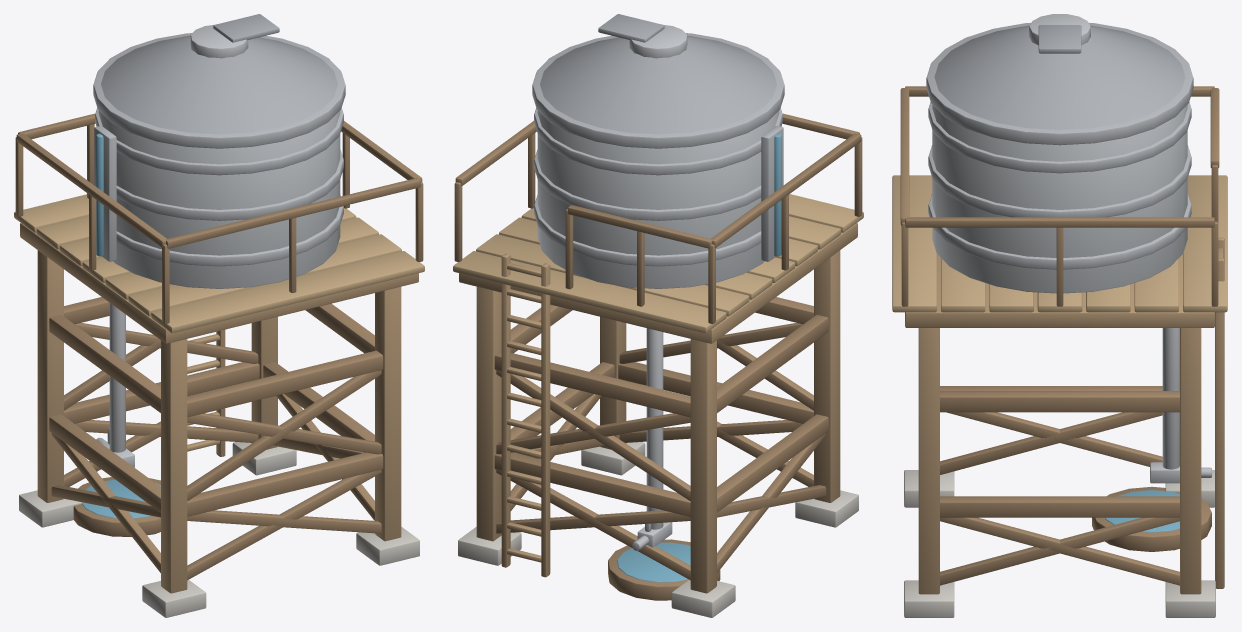
The model's file is th18_wassertank.glb.
3 renders of one model, left to right at view 1: azimuth 30°, elevation 25°; view 2: azimuth 150°, elevation 25°; view 3: azimuth 270°, elevation 25°, orthographic. The views are drawn at different scales.
Visible parts, largest first — view 1: Cylinder, Cone, Cube.001, Cube.029, Cube.005, Cube.003, Cylinder.004, Cube.028, Cube.012, Cube.008, Cube.030, Cube.018 (+46 smaller); view 2: Cylinder, Cone, Cube.003, Cube.007, Cube.035, Cube.001, Cylinder.004, Cube.028, Cube.009, Cube.013, Cube.041, Cube.034 (+49 smaller); view 3: Cylinder, Cone, Cube.005, Cube.007, Cube.028, Cylinder.004, Cube.011, Cube.015, Cube.029, Cube.035, Cylinder.003, Cube.063 (+28 smaller).
Boxes of the visible parts, x1,y1,x2,y2 form: Cylinder: (98, 110, 340, 288); Cone: (101, 35, 337, 134); Cube.001: (161, 339, 187, 593); Cube.029: (151, 251, 424, 333); Cube.005: (375, 286, 401, 541); Cube.003: (37, 250, 63, 502); Cylinder.004: (93, 33, 345, 148); Cube.028: (20, 223, 418, 343); Cube.012: (187, 350, 383, 417); Cube.008: (187, 452, 383, 516); Cube.030: (128, 234, 401, 316); Cube.018: (187, 370, 381, 500); Cylinder: (537, 110, 779, 288); Cone: (540, 35, 776, 134); Cube.003: (690, 339, 716, 593); Cube.007: (476, 286, 501, 541); Cube.035: (453, 251, 726, 333); Cube.001: (814, 250, 840, 502); Cylinder.004: (532, 33, 784, 148); Cube.028: (459, 223, 857, 343); Cube.009: (494, 452, 690, 516); Cube.013: (494, 350, 690, 417); Cube.041: (541, 263, 550, 577); Cube.034: (476, 234, 749, 316); Cylinder: (932, 105, 1187, 293); Cone: (934, 25, 1185, 129); Cube.005: (918, 328, 939, 594); Cube.007: (1180, 328, 1201, 594); Cube.028: (905, 254, 1214, 327); Cylinder.004: (926, 22, 1193, 145); Cube.011: (940, 496, 1179, 517); Cube.015: (940, 391, 1179, 412); Cube.029: (892, 175, 936, 312); Cube.035: (1183, 175, 1227, 312); Cylinder.003: (928, 102, 1191, 173); Cube.063: (905, 217, 1214, 227).
Bounding box in the file's own units: 3.29 × 6.04 × 3.46.
